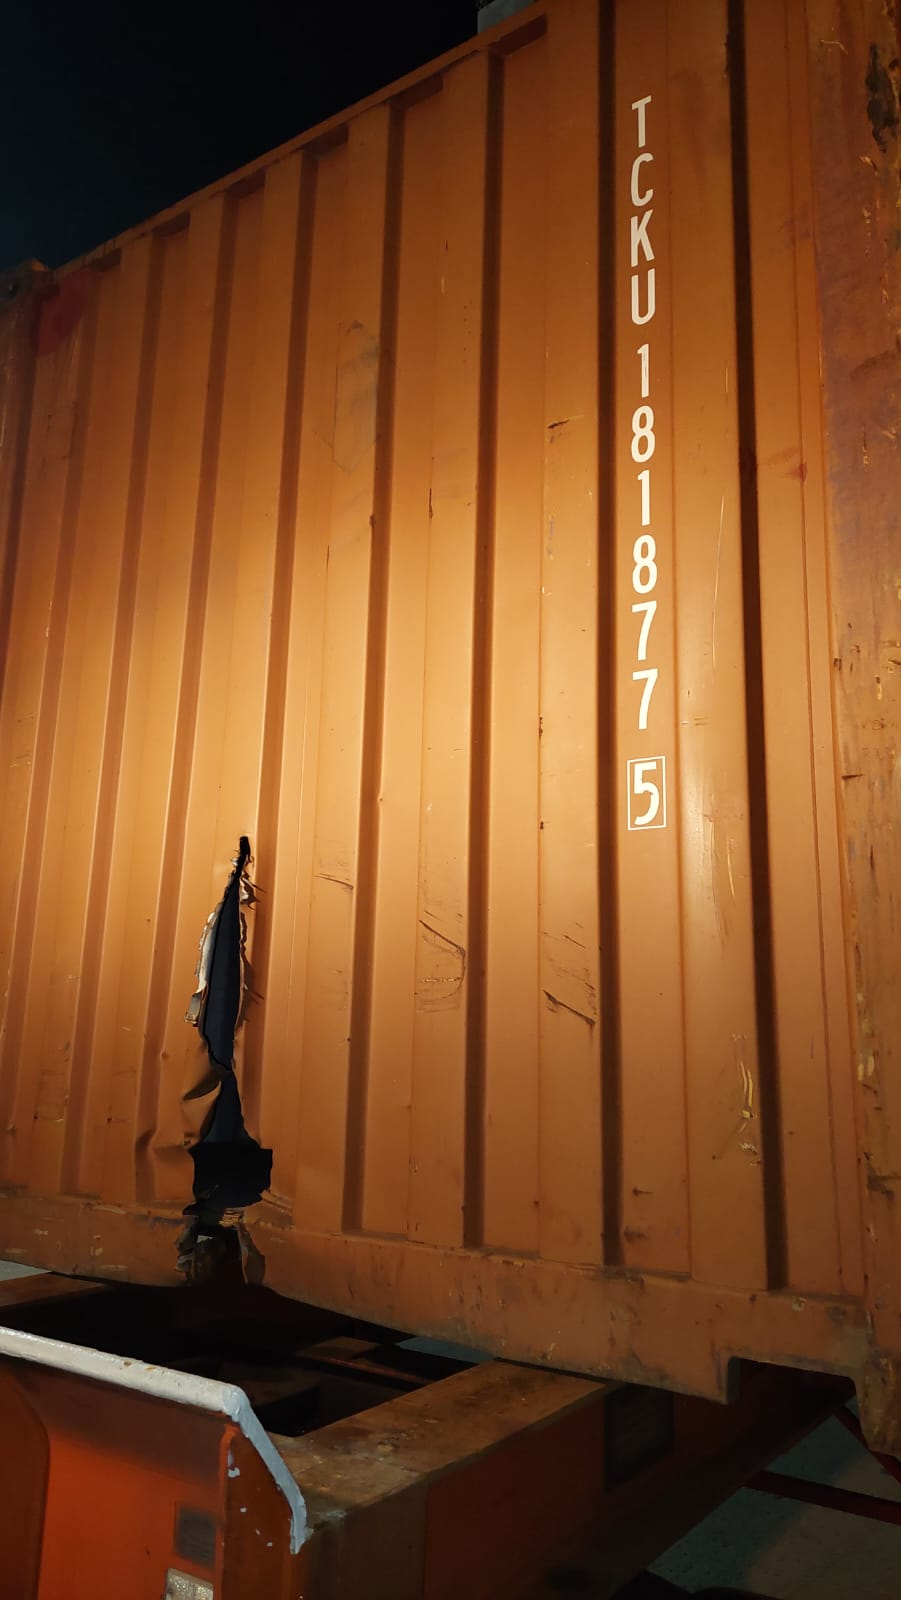cut: (108, 821, 320, 1286)
